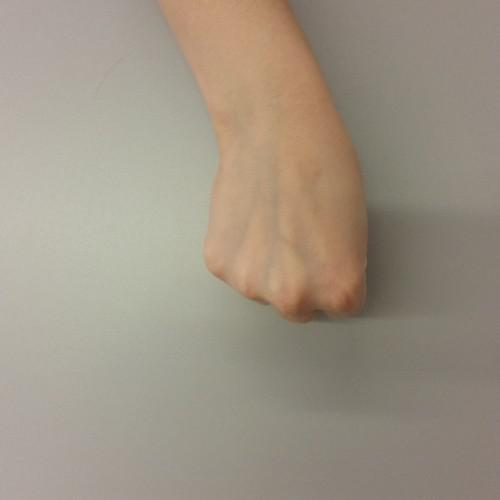rock: (188, 121, 391, 326)
